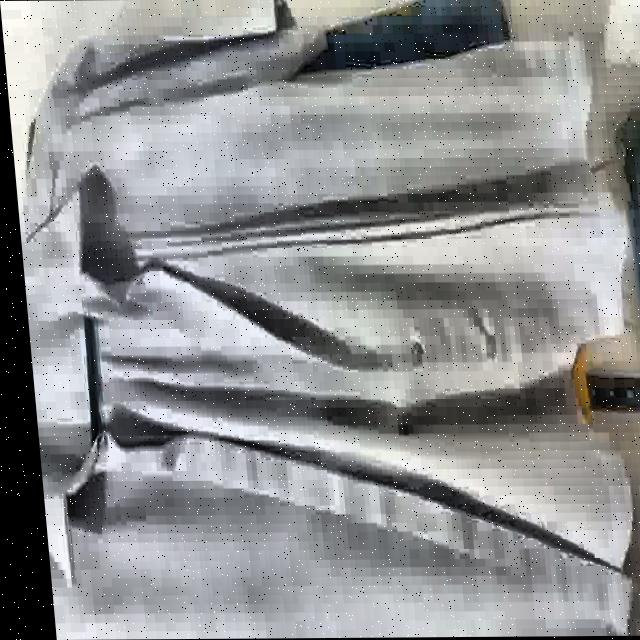clothes: (1, 7, 640, 635)
